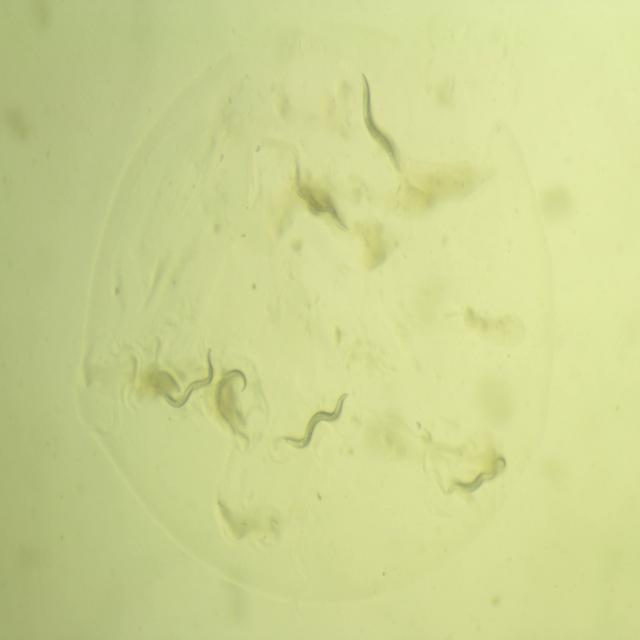worm: (352, 61, 411, 187), (266, 384, 356, 463), (288, 154, 351, 238), (153, 340, 221, 417), (440, 436, 510, 510), (207, 348, 257, 451)
